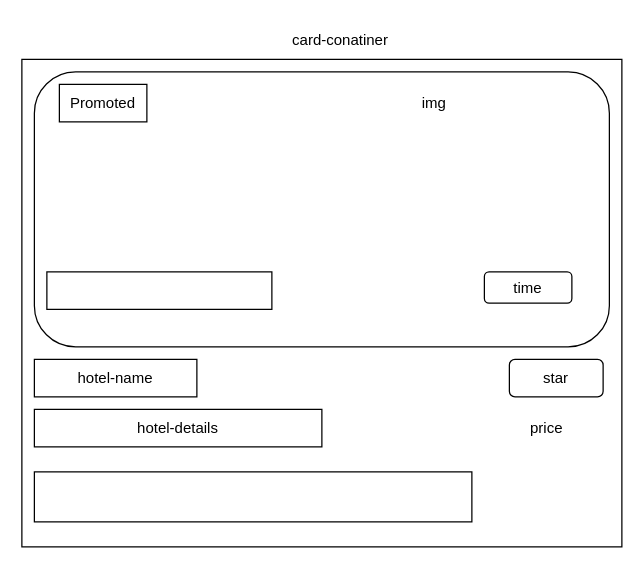
The diagram is 644 pixels wide and 569 high, and some of its shapes have lost their labels. The box of each missing label's shape, as (x1, y1, x2, y2) in pixels:
offer: (46, 271, 272, 309)
slider-with-details: (33, 471, 472, 522)
